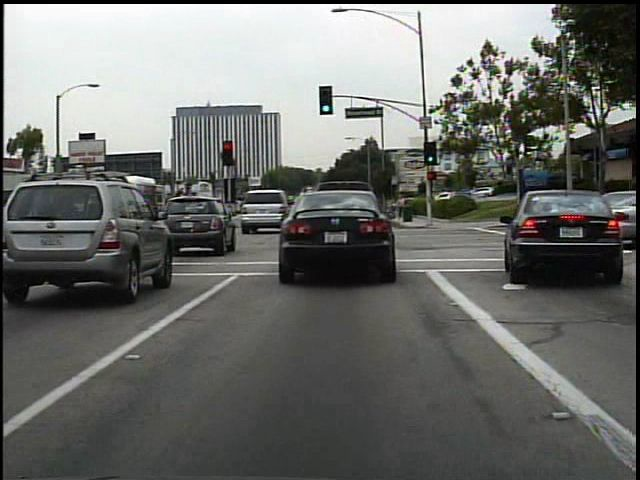person: (397, 196, 406, 221)
